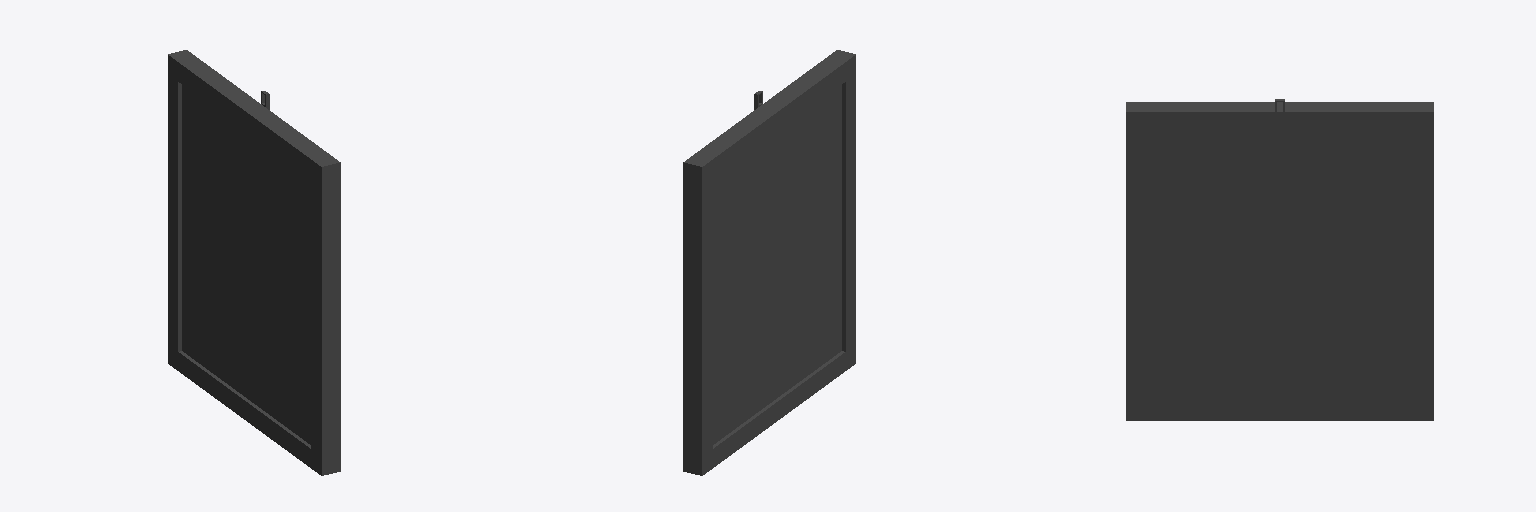
The model's file is Frame.obj.
3 renders of one model, left to right at view 1: azimuth 30°, elevation 25°; view 2: azimuth 150°, elevation 25°; view 3: azimuth 270°, elevation 25°, orthographic.
Visible parts, largest first — view 1: ??; view 2: ??; view 3: ??.
Part boxes in pixels (left/top/right/bottom): ??: left=168, top=50, right=340, bottom=475; ??: left=683, top=50, right=855, bottom=475; ??: left=1126, top=99, right=1433, bottom=420.
Size of the model in its own units: 0.0648 by 0.8744 by 0.758.